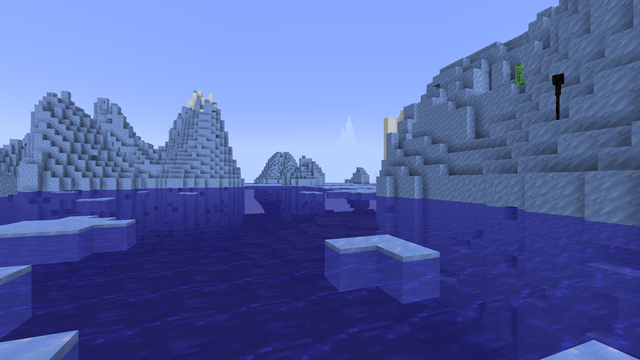creepers: (513, 61, 524, 85)
endermens: (549, 71, 567, 112)
